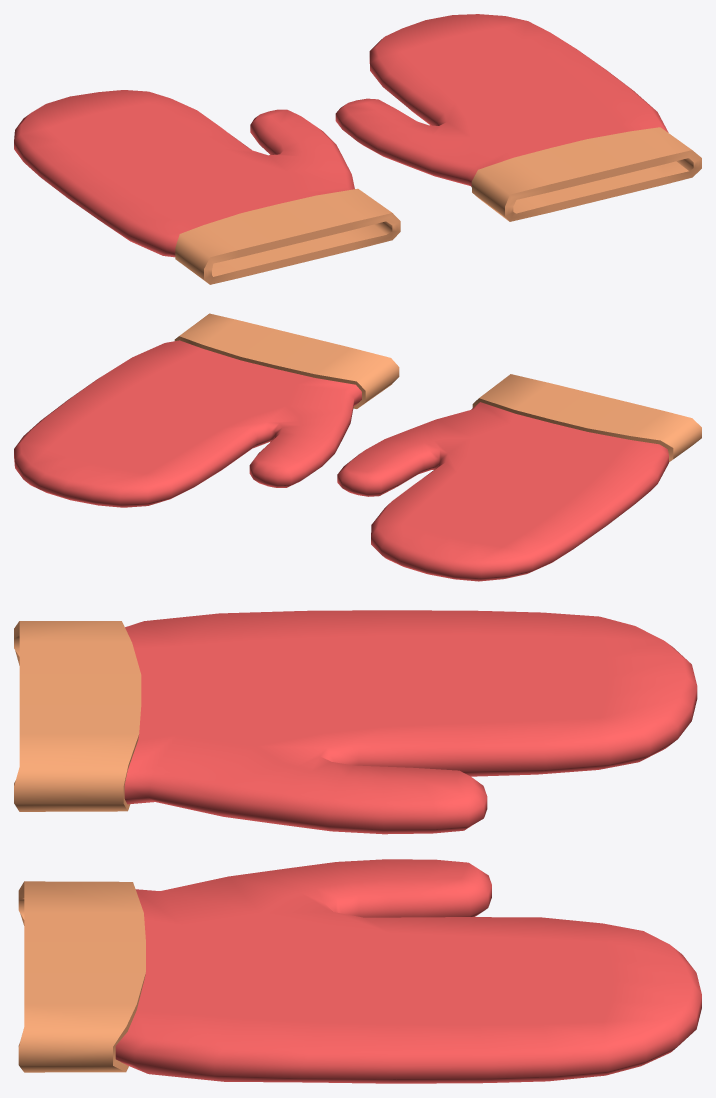
Rendered from oven mitt.fbx.
3 views of the same model, one above another, from view 1: azimuth 30°, elevation 25°; view 2: azimuth 150°, elevation 25°; view 3: azimuth 270°, elevation 25° (orthographic). The views are drawn at different scales.
Parts seen in each view (by area): view 1: Mitten.001, Mitten; view 2: Mitten, Mitten.001; view 3: Mitten.001, Mitten.
Part boxes in pixels (bbox=[...]): Mitten.001: bbox=[335, 14, 701, 221]; Mitten: bbox=[14, 90, 400, 284]; Mitten: bbox=[337, 374, 701, 581]; Mitten.001: bbox=[14, 313, 399, 507]; Mitten.001: bbox=[18, 859, 701, 1083]; Mitten: bbox=[14, 610, 697, 834].
Bounding box in the file's own units: 94.68 × 6.72 × 63.77.
